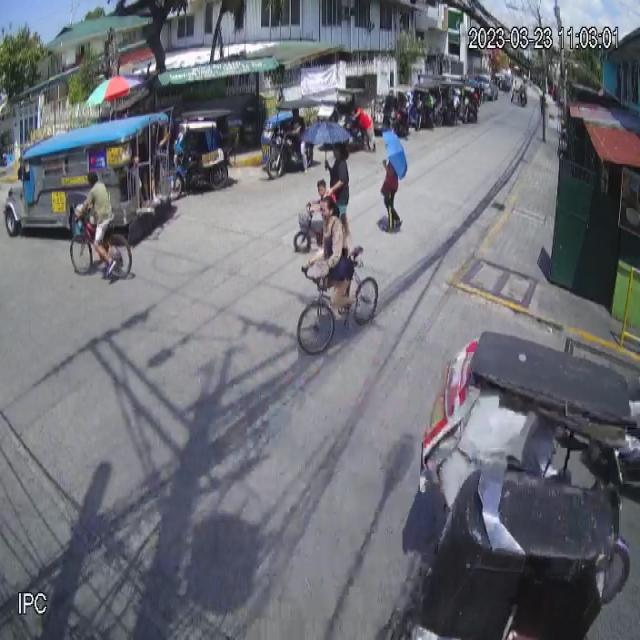Jeep: (3, 113, 174, 245)
